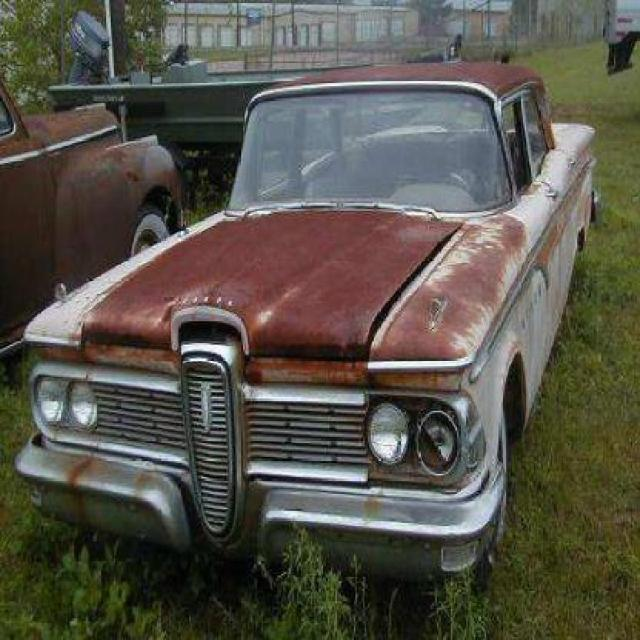corrosion: (24, 54, 601, 575)
